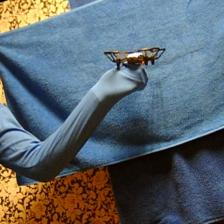drone: (104, 46, 166, 70)
